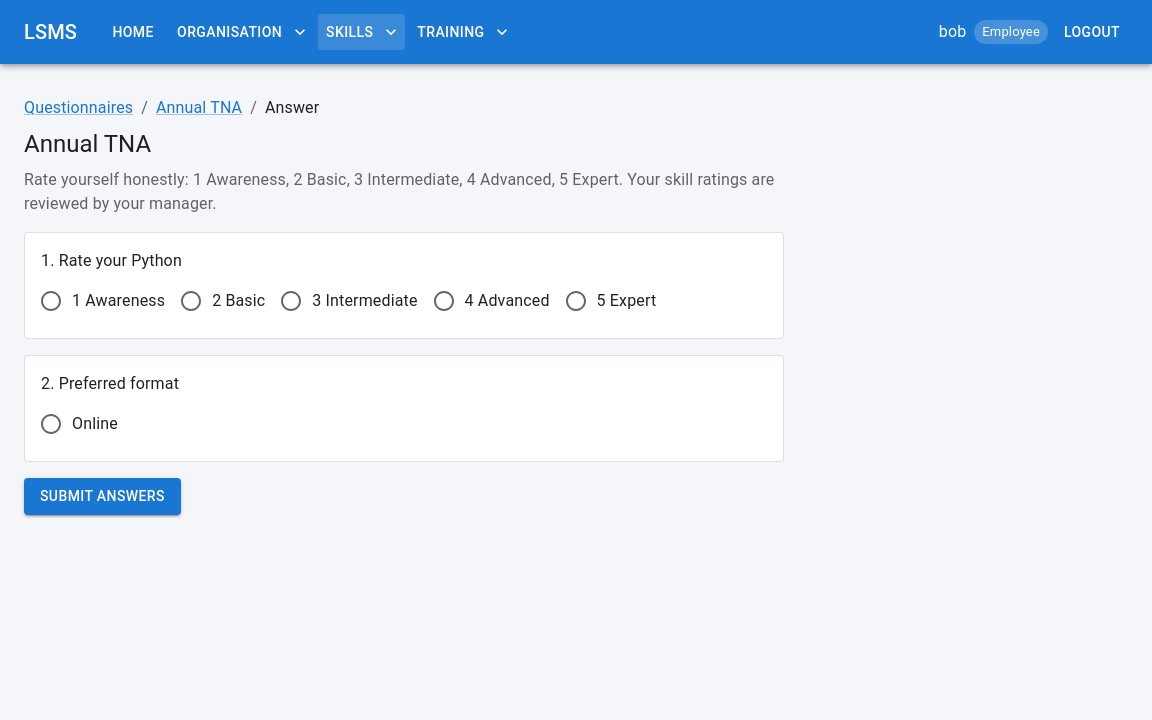
Test: employees answer a questionnaire
Expected: the text "1. Rate your Python" is shown, [41,251,182,270]
Step 1. Click the button "Submit answers" → x=102, y=496, box [24,478,181,514]
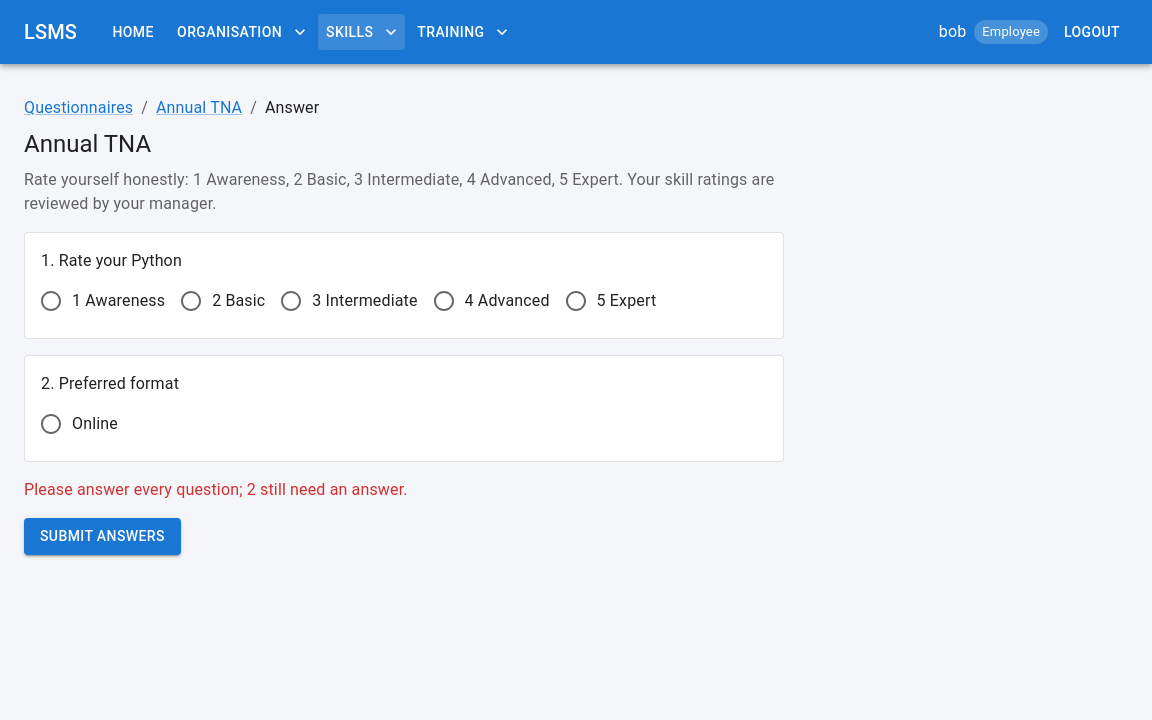
Now the text "Please answer every question; 2 still need an answer." is shown, box [24,480,408,499]
Step 2. Click the radio button labelled "4 Advanced" → x=491, y=301, box [432,289,550,313]
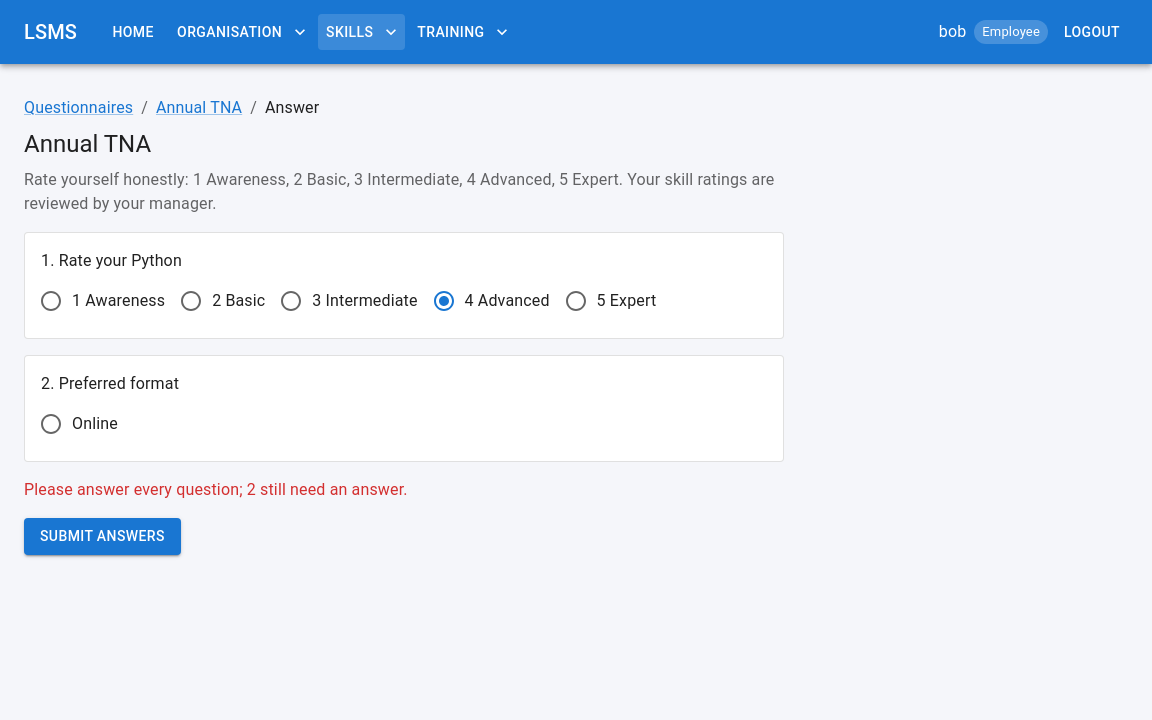
Step 3. Click the radio button labelled "Online" → x=78, y=424, box [39,412,118,436]
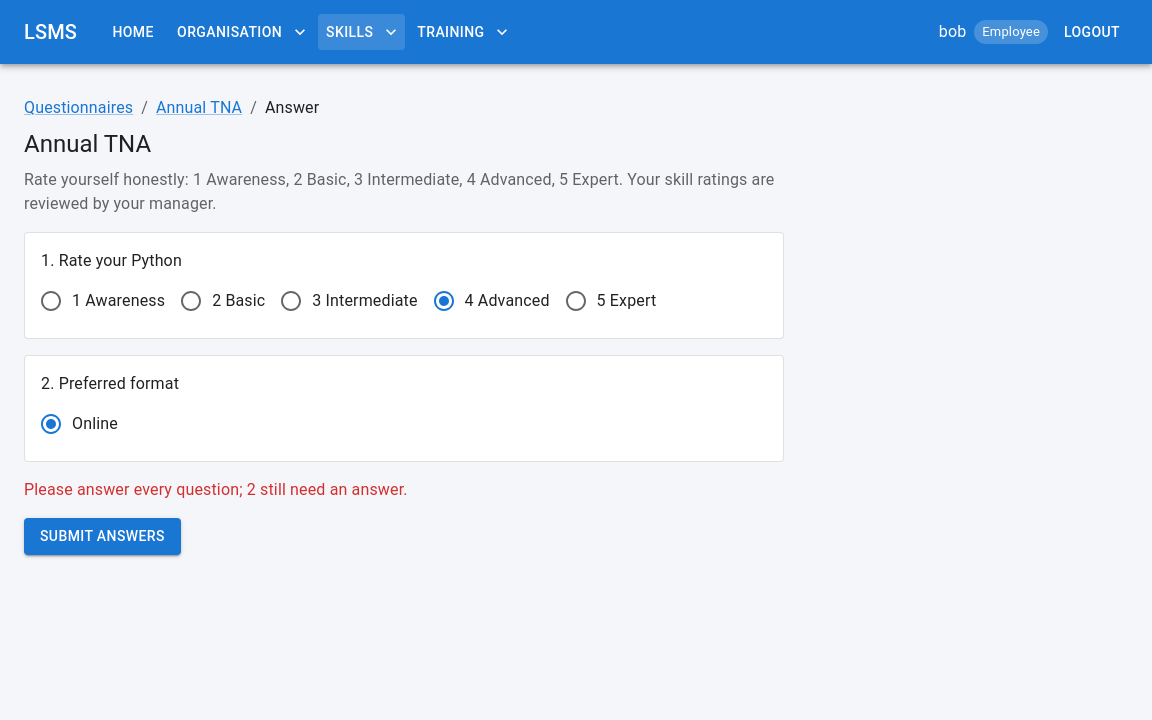
Step 4. Click the button "Submit answers" → x=102, y=536, box [24,518,181,554]
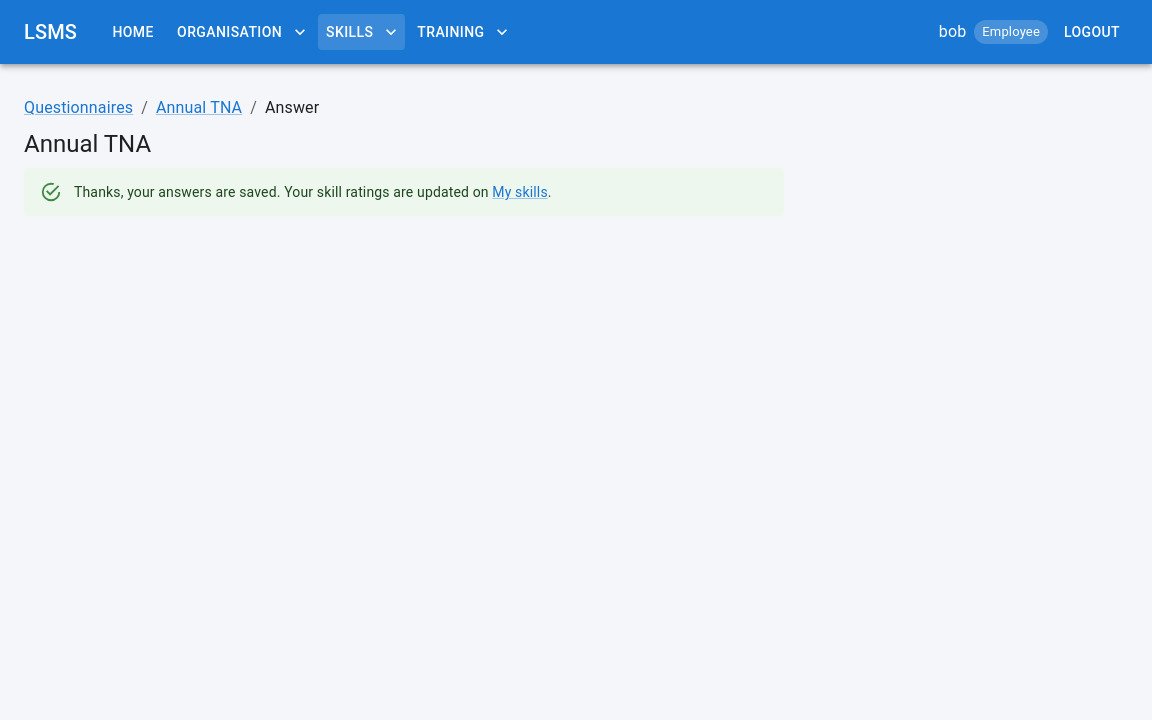
Now the text "your answers are saved" is shown, box [74,184,281,200]
